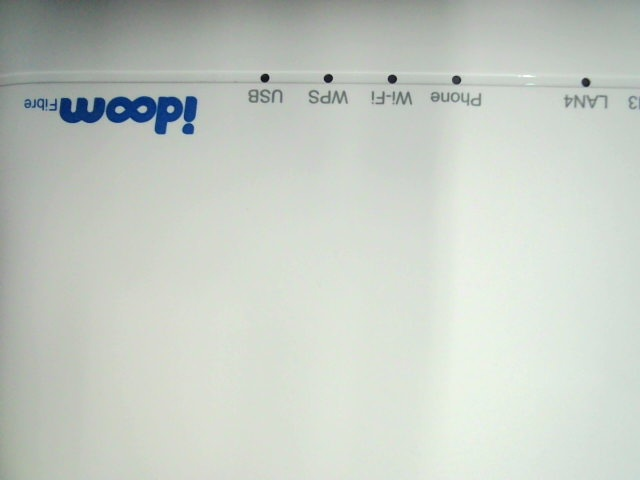BB_idoom: (20, 84, 204, 139)
